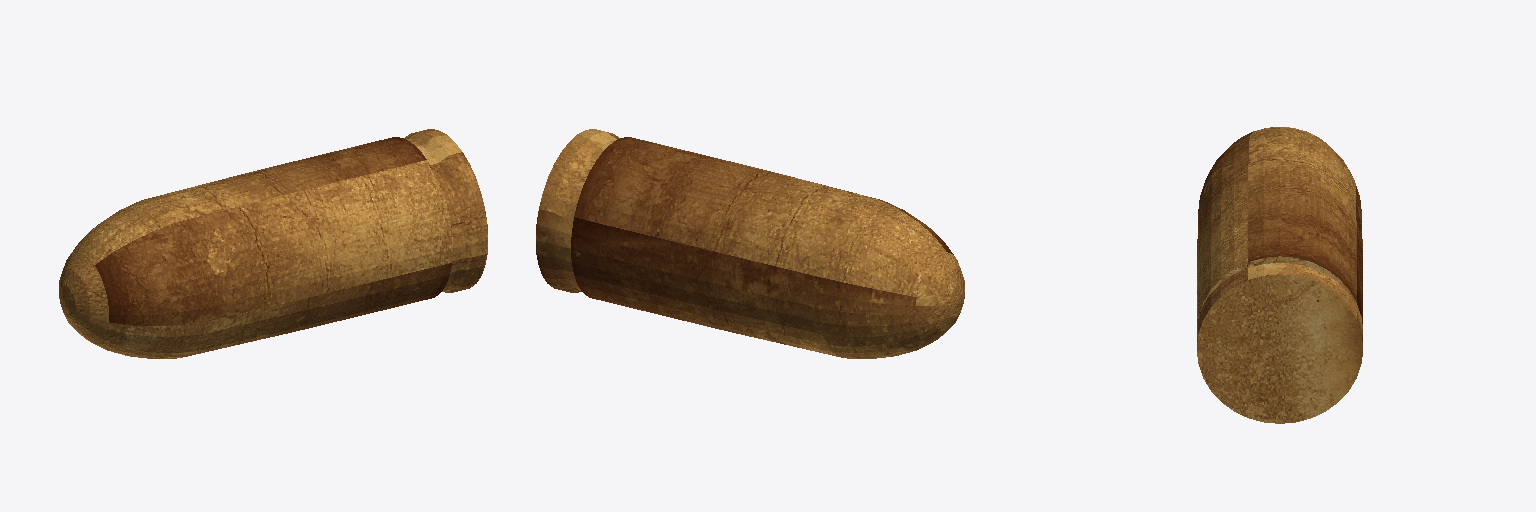
3 renders of one model, left to right at view 1: azimuth 30°, elevation 25°; view 2: azimuth 150°, elevation 25°; view 3: azimuth 270°, elevation 25°, orthographic.
Parts seen in each view (by area): view 1: Sphere; view 2: Sphere; view 3: Sphere.
Part boxes in pixels (left/top/right/bottom): Sphere: left=59, top=129, right=487, bottom=358; Sphere: left=536, top=129, right=964, bottom=358; Sphere: left=1197, top=127, right=1362, bottom=423.
Bounding box in the file's own units: 0.8913 × 0.3371 × 0.3371.
Materials: 1 (1 with a texture image).